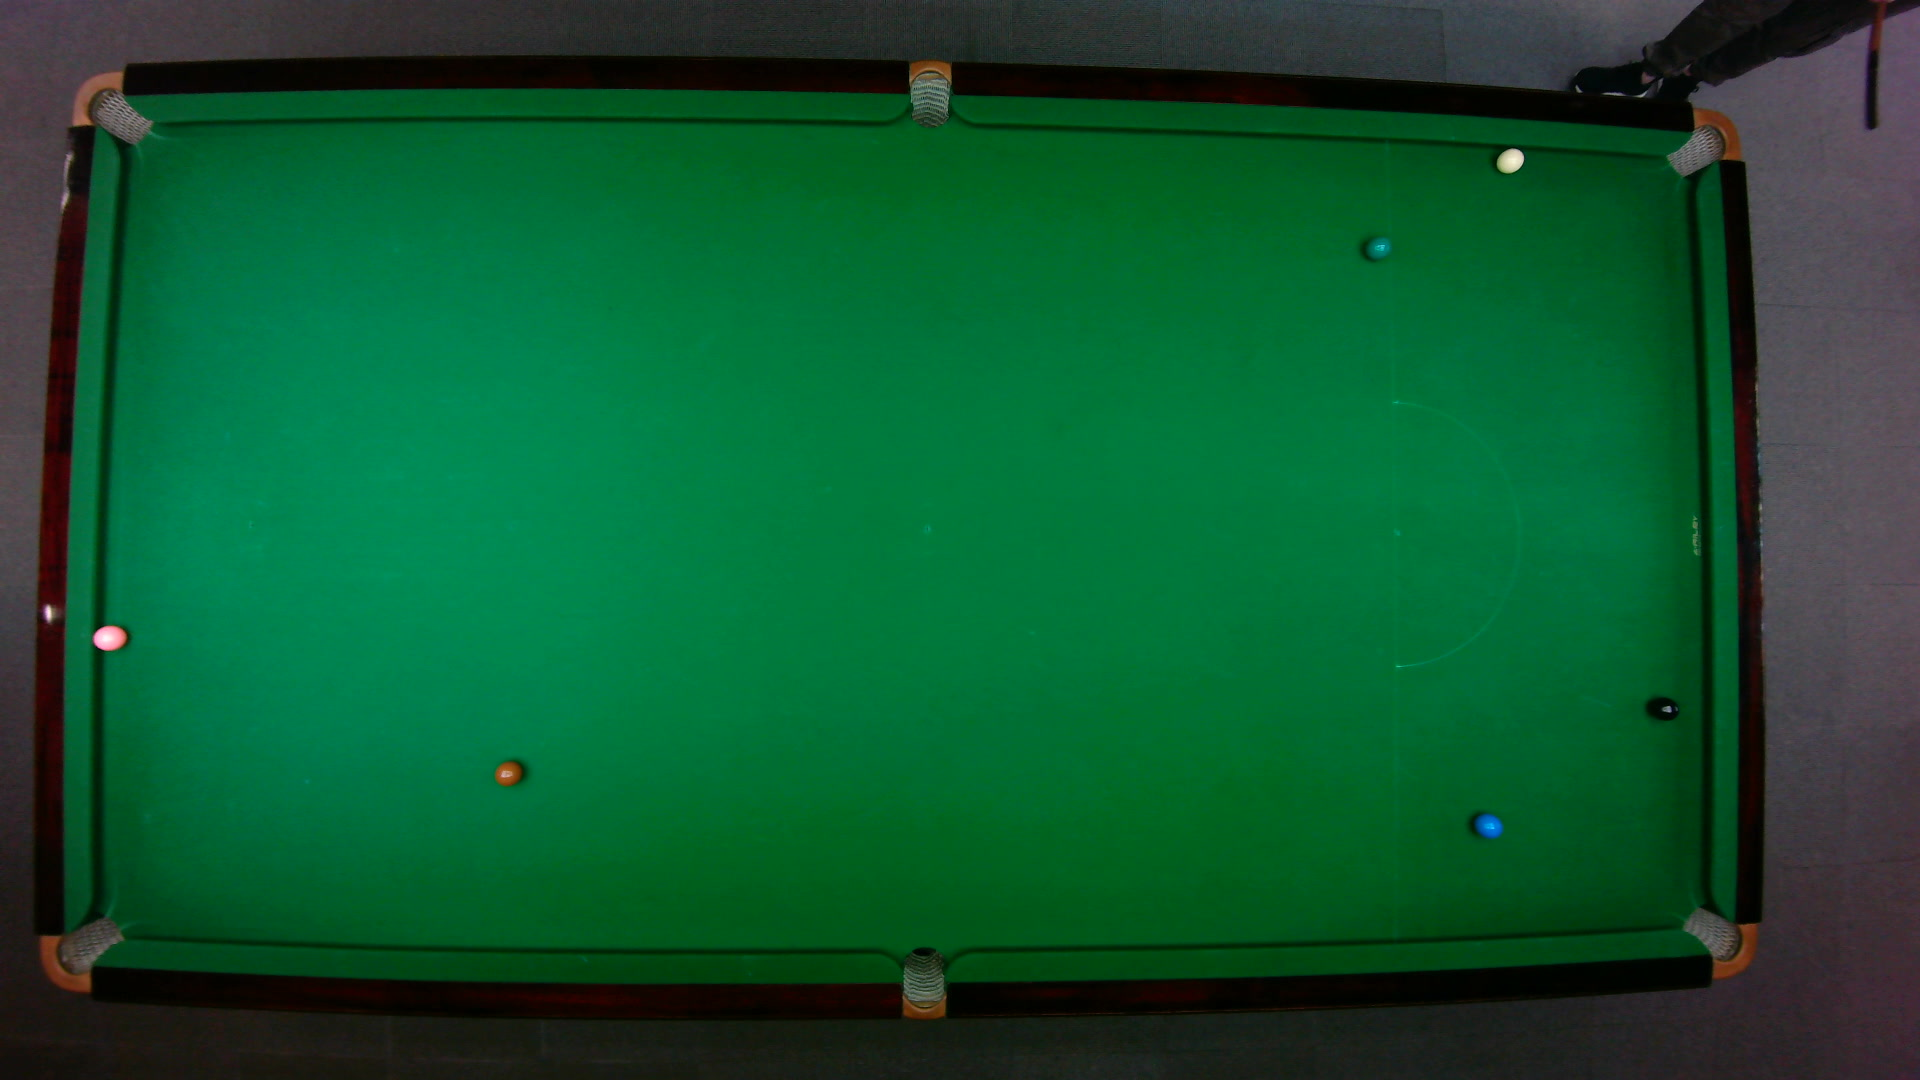bag: (38, 914, 125, 993), (69, 69, 153, 145), (1679, 905, 1756, 978), (1663, 107, 1741, 177), (901, 945, 944, 1021), (909, 57, 949, 128)
black: (1651, 696, 1680, 720)
blue: (1472, 811, 1505, 839)
brown: (493, 758, 524, 786)
green: (1364, 235, 1393, 260)
pink: (90, 622, 128, 651)
white: (1494, 146, 1524, 174)
zone: (1390, 400, 1520, 669)
